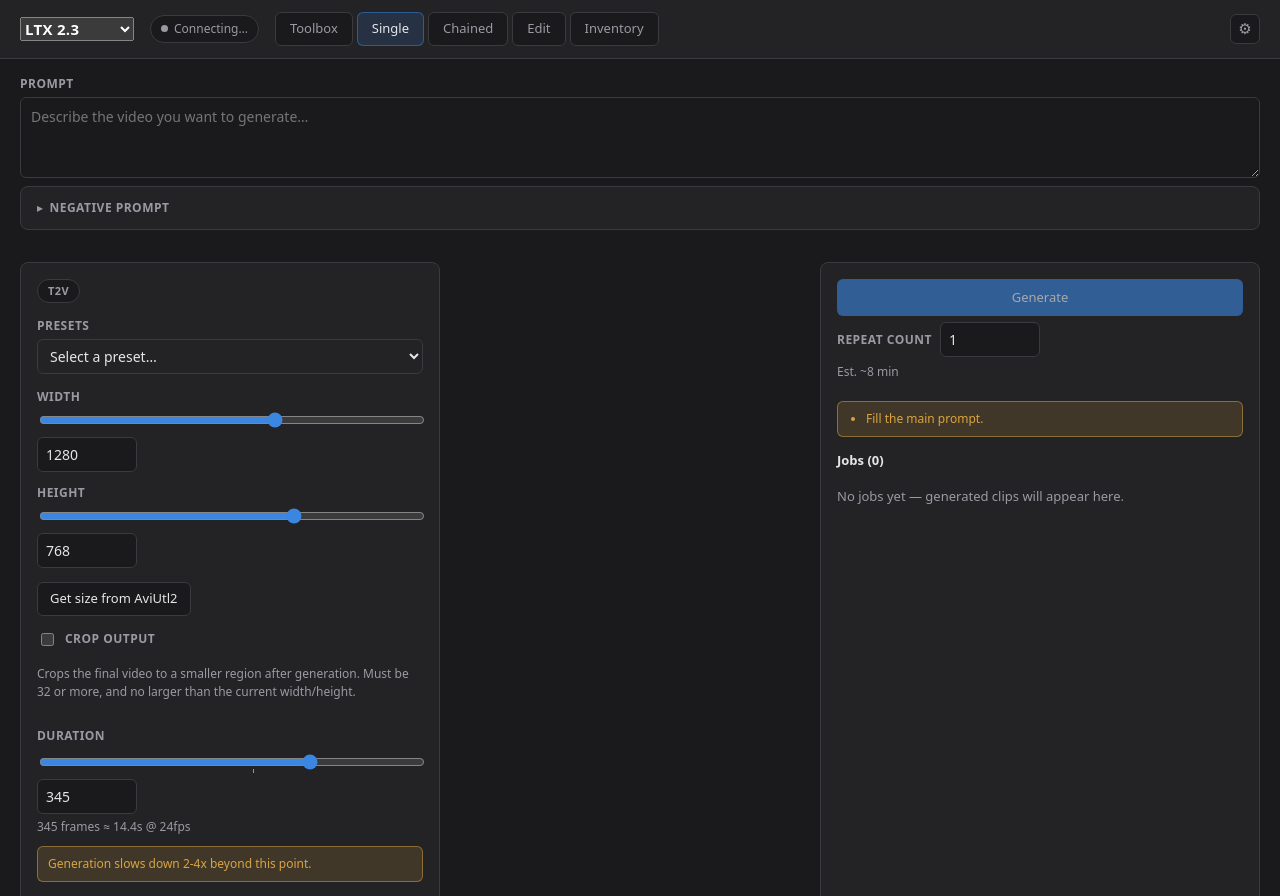
Test: AppShell — header base-model dropdown › the Settings panel offers the same options, and picking there loads the base model and remounts the Models section
The image size is (1280, 896).
Check: the button "Generate" is shown, box x1=837 y1=278 x2=1243 y2=316
Check: the dropdown named "base model" shows "LTX 2.3", box x1=20 y1=17 x2=134 y2=41
Click the button named "Settings". click: x=1245, y=29
box: x1=1230 y1=14 x2=1260 y2=44
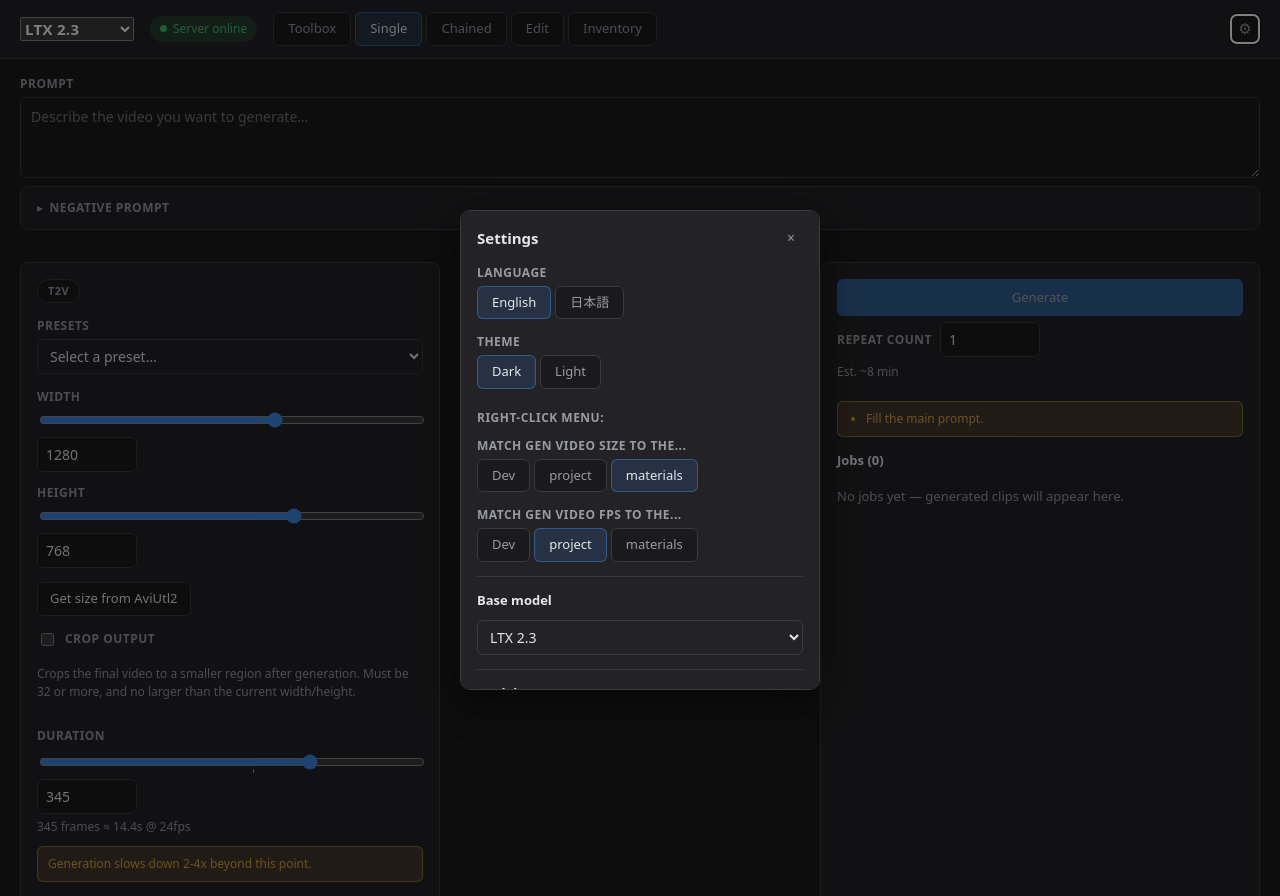
Check: the heading "Base model" is shown, box x1=477 y1=590 x2=552 y2=608
Check: the dropdown named "base model" shows "LTX 2.3"
Select "LTX 2.5" in the dropdown named "base model". click: x=640, y=638
box: x1=477 y1=620 x2=803 y2=655
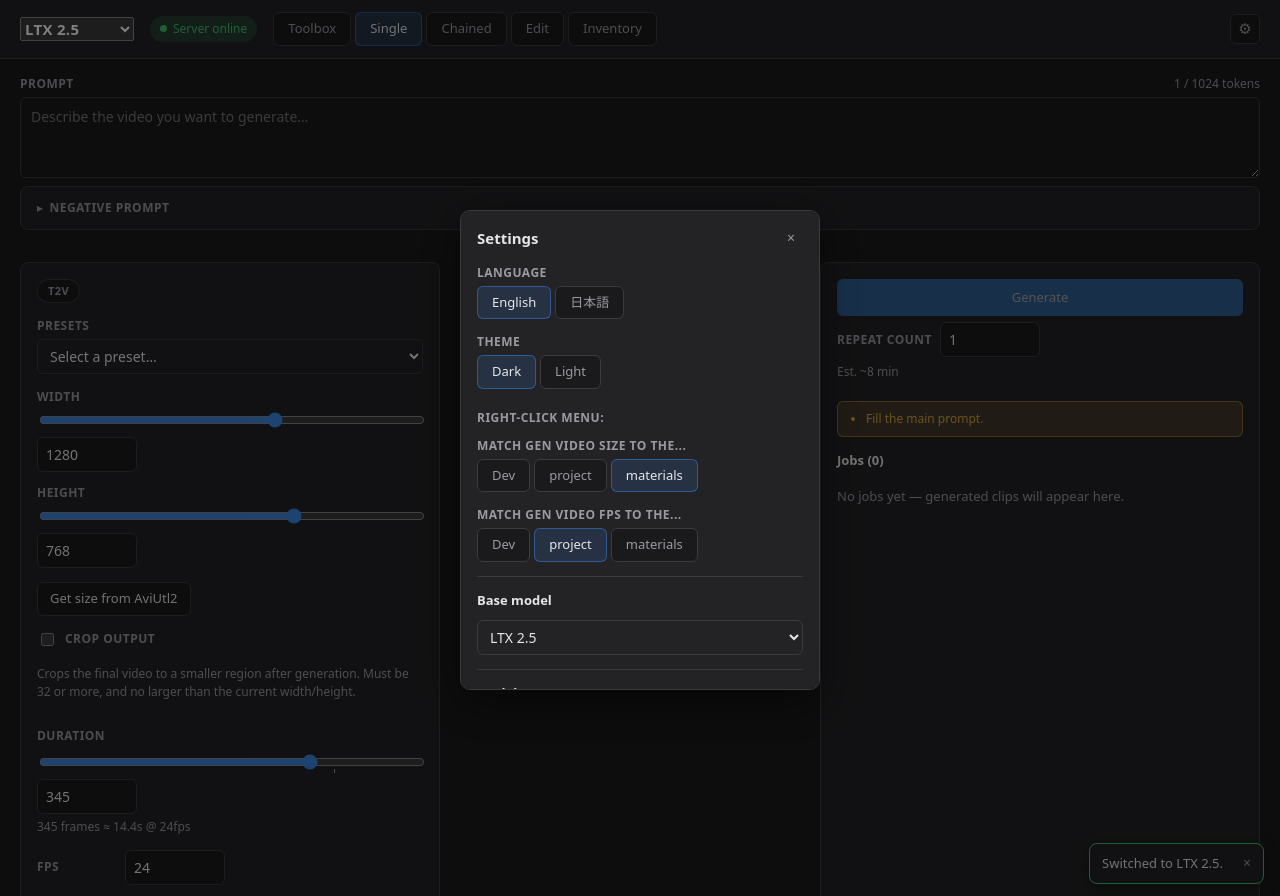
Check: the dropdown named "base model" next to "Server online" shows "LTX 2.5", box x1=20 y1=17 x2=134 y2=41
